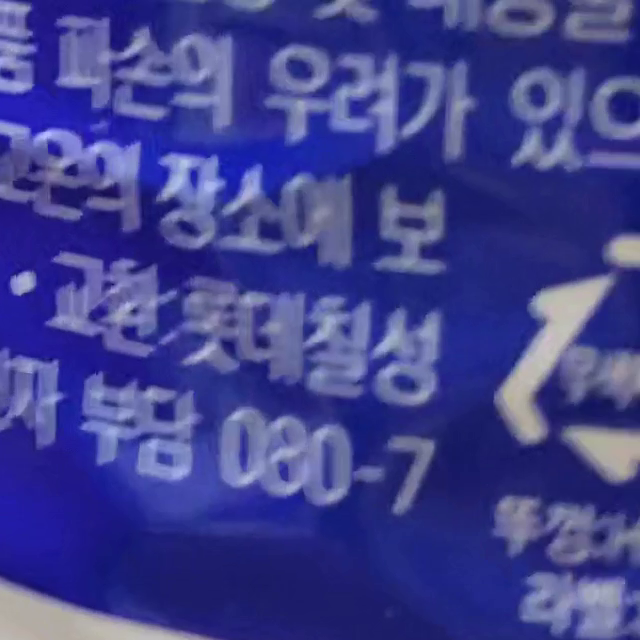ColorlessPet: (530, 260, 637, 465)
